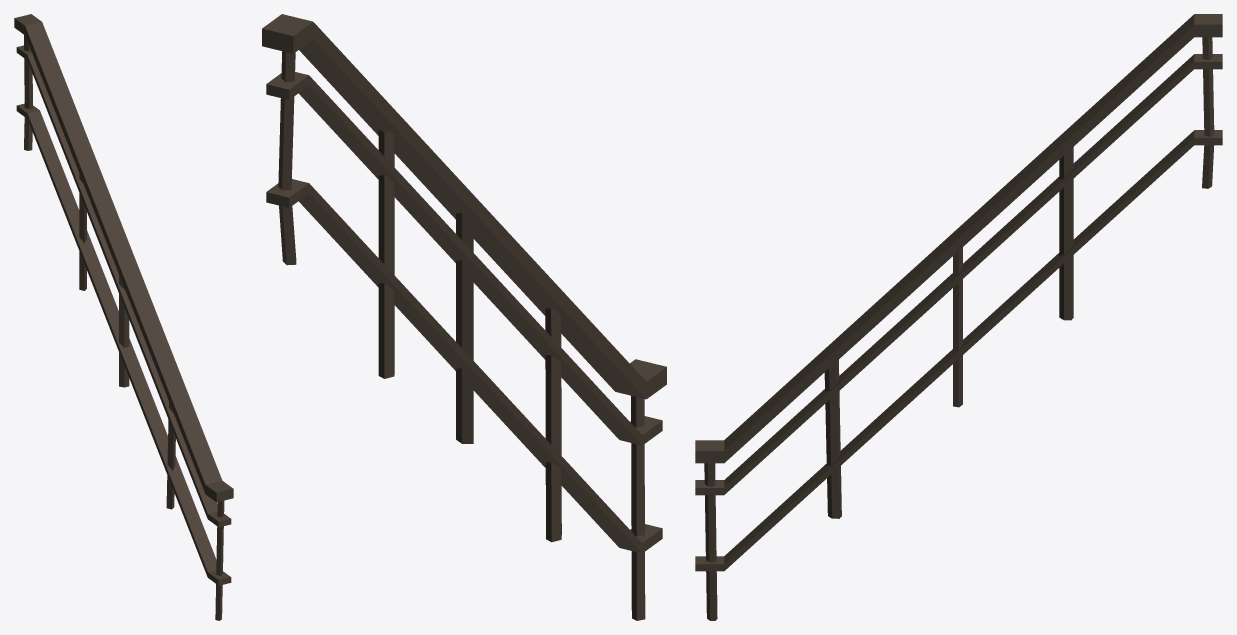
File: SM_Bld_House_Stairs_04_Railing_01.fbx
3 renders of one model, left to right at view 1: azimuth 30°, elevation 25°; view 2: azimuth 150°, elevation 25°; view 3: azimuth 270°, elevation 25°, orthographic. The views are drawn at different scales.
Parts seen in each view (by area): view 1: SM_Bld_House_Stairs_04_Railing_01; view 2: SM_Bld_House_Stairs_04_Railing_01; view 3: SM_Bld_House_Stairs_04_Railing_01.
Boxes of the visible parts, box(x1,y1,x2,y2) form: SM_Bld_House_Stairs_04_Railing_01: box(14, 14, 233, 620); SM_Bld_House_Stairs_04_Railing_01: box(262, 14, 666, 620); SM_Bld_House_Stairs_04_Railing_01: box(695, 14, 1222, 620).
Bounding box in the file's own units: 13.58 × 352 × 280.
